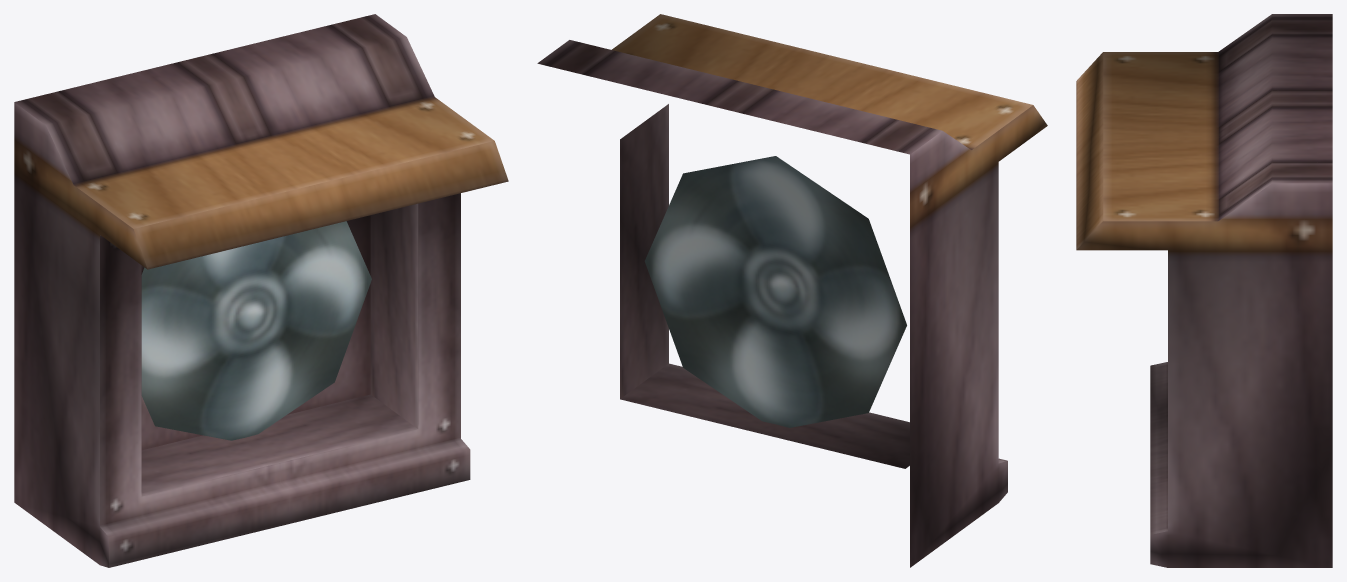
File: a_SWIfan02.glb
3 renders of one model, left to right at view 1: azimuth 30°, elevation 25°; view 2: azimuth 150°, elevation 25°; view 3: azimuth 270°, elevation 25°, orthographic. The views are drawn at different scales.
Visible parts, largest first — view 1: a_SWIfan02; view 2: a_SWIfan02; view 3: a_SWIfan02.
Boxes of the visible parts, box(x1,y1,x2,y2) form: a_SWIfan02: box(14, 14, 508, 567); a_SWIfan02: box(537, 14, 1047, 567); a_SWIfan02: box(1076, 14, 1332, 567).
Bounding box in the file's own units: 0.703 × 0.7446 × 0.4499.
2 materials, 2 textured.
